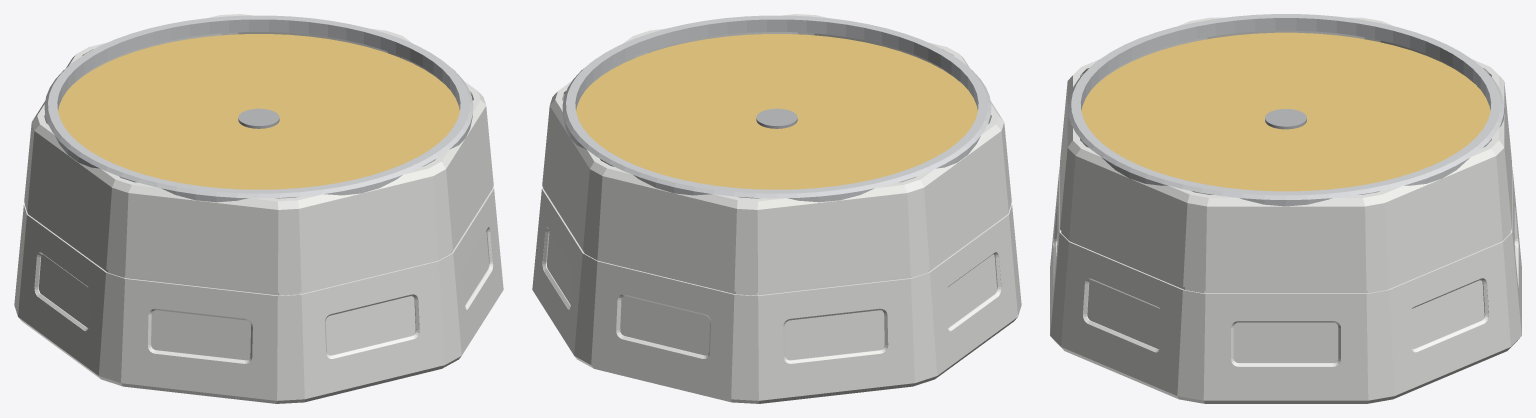
File: ax_prop_20_thrust_structure_m_x3.glb
The picture shows the model from 3 angles, left to right: view 1: azimuth 30°, elevation 25°; view 2: azimuth 150°, elevation 25°; view 3: azimuth 270°, elevation 25°; orthographic projection.
Visible parts, largest first — view 1: skirt, mli_floor, interface_ring, thrust_beams; view 2: skirt, mli_floor, interface_ring, thrust_beams; view 3: skirt, mli_floor, interface_ring, thrust_beams.
Boxes of the visible parts, left/top/right/bottom form: skirt: left=14, top=14, right=503, bottom=403; mli_floor: left=58, top=34, right=459, bottom=189; interface_ring: left=44, top=15, right=473, bottom=202; thrust_beams: left=238, top=108, right=279, bottom=128; skirt: left=532, top=14, right=1021, bottom=403; mli_floor: left=576, top=34, right=977, bottom=189; interface_ring: left=562, top=15, right=991, bottom=202; thrust_beams: left=756, top=108, right=797, bottom=128; skirt: left=1050, top=17, right=1521, bottom=403; mli_floor: left=1081, top=32, right=1490, bottom=191; interface_ring: left=1067, top=14, right=1504, bottom=206; thrust_beams: left=1265, top=109, right=1306, bottom=129.
Size of the model in its own units: 2.7 by 1.27 by 2.7.
